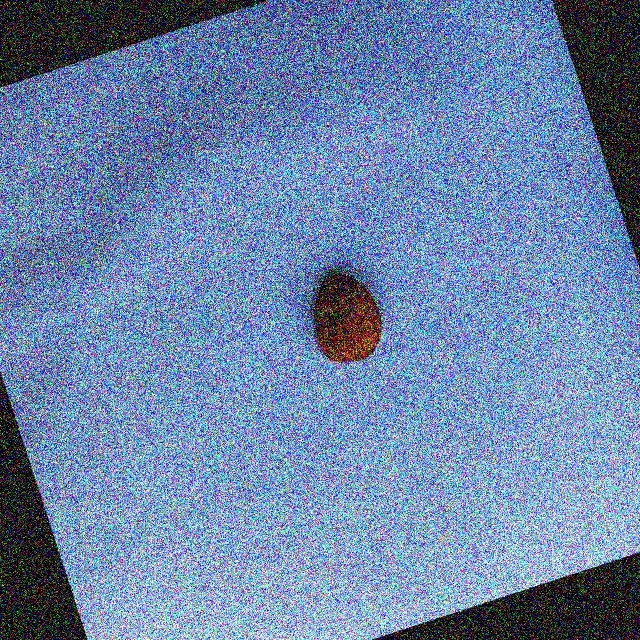grade3: (293, 260, 395, 377)
